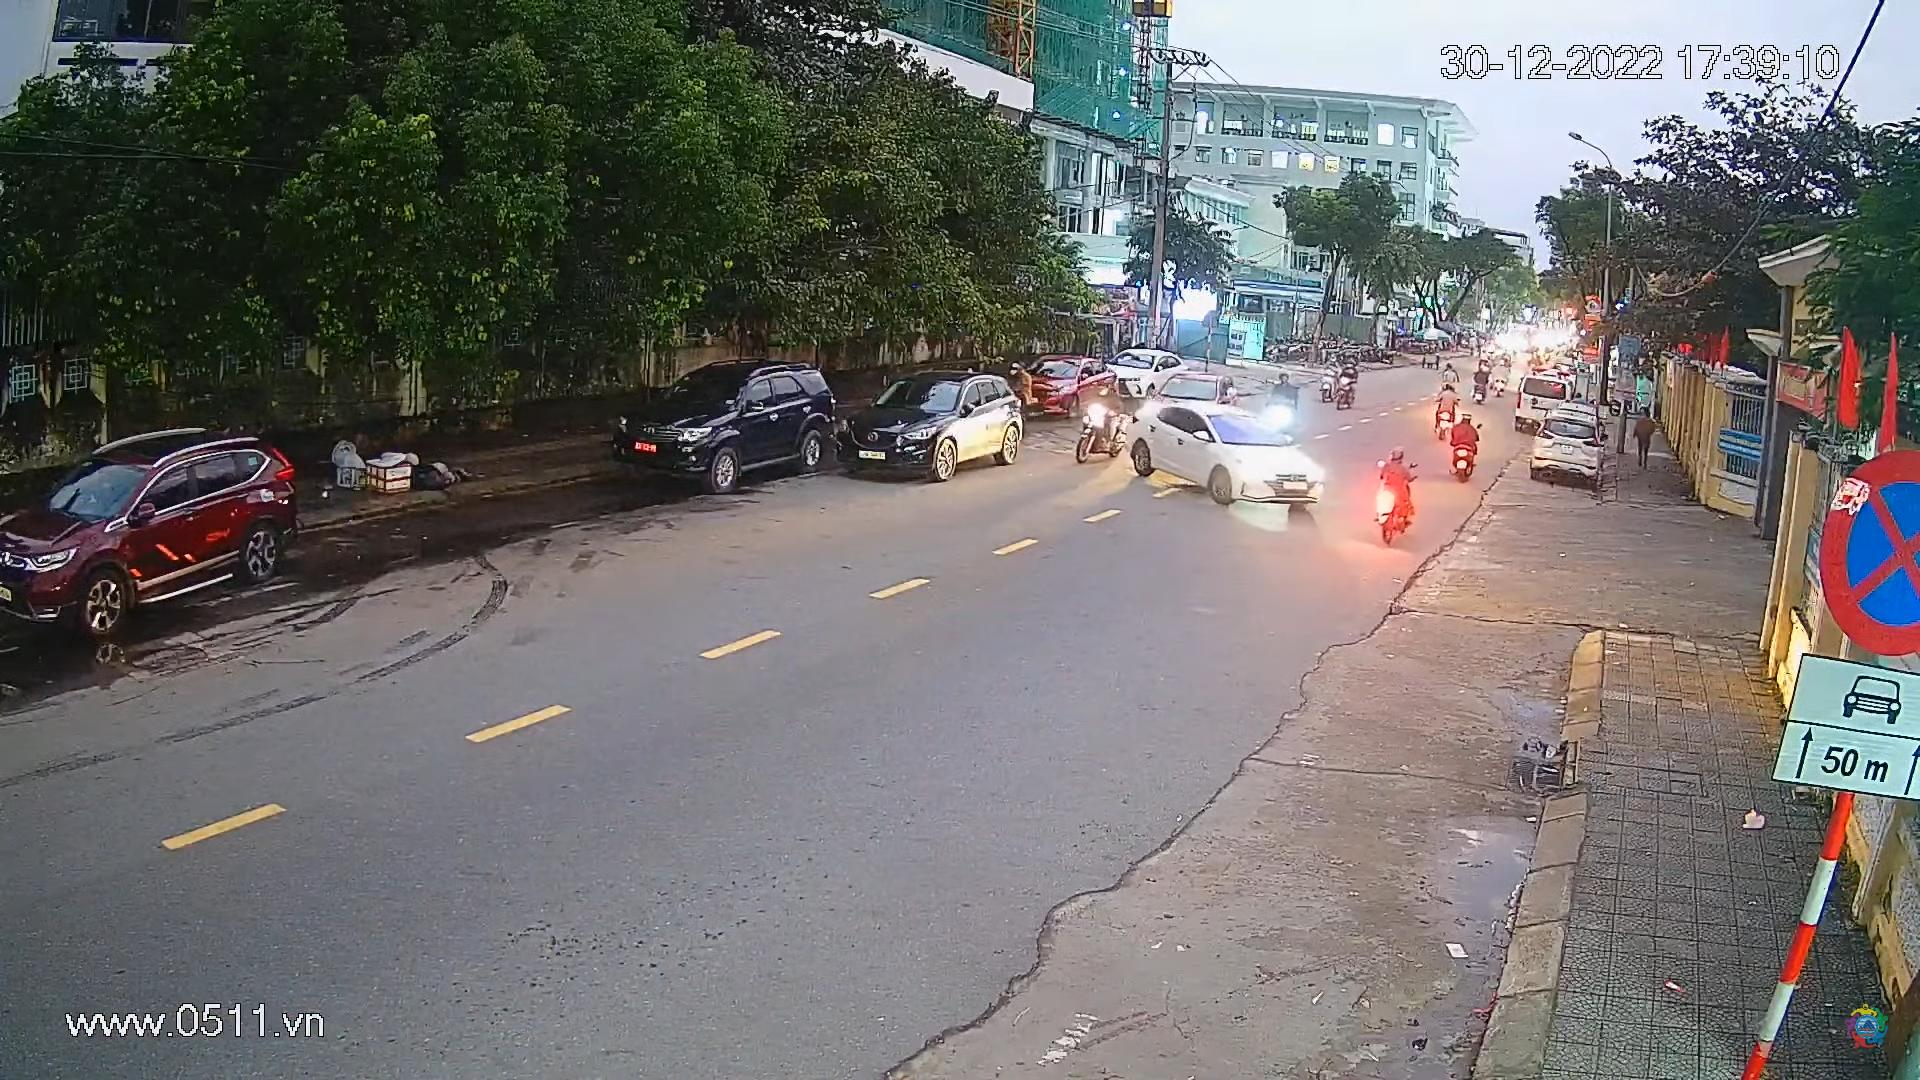car: (0, 421, 301, 646), (621, 360, 847, 500), (1114, 393, 1332, 512), (836, 367, 1025, 481), (1021, 352, 1118, 417), (1528, 410, 1606, 489), (1106, 345, 1189, 398)
motorcycle: (1369, 444, 1425, 551), (1067, 389, 1126, 465), (1255, 365, 1303, 434), (1328, 352, 1369, 411), (1452, 398, 1478, 479), (1465, 364, 1499, 406), (1427, 384, 1458, 429), (1436, 355, 1461, 396)
